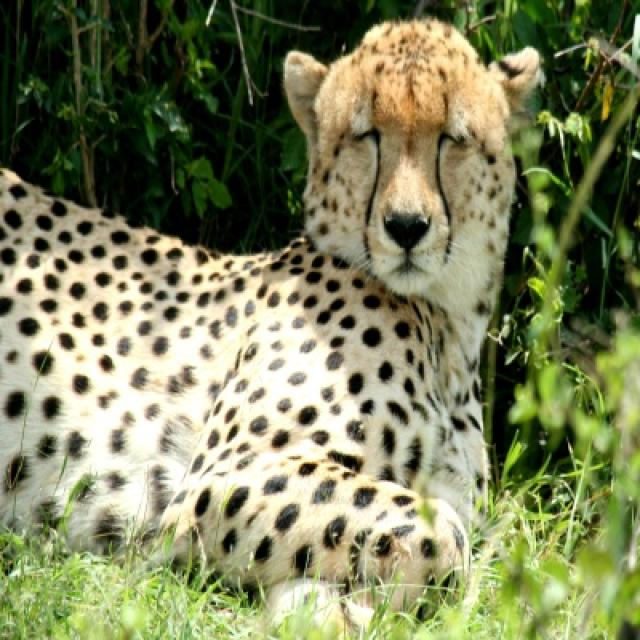Cheetah: (2, 19, 541, 608)
